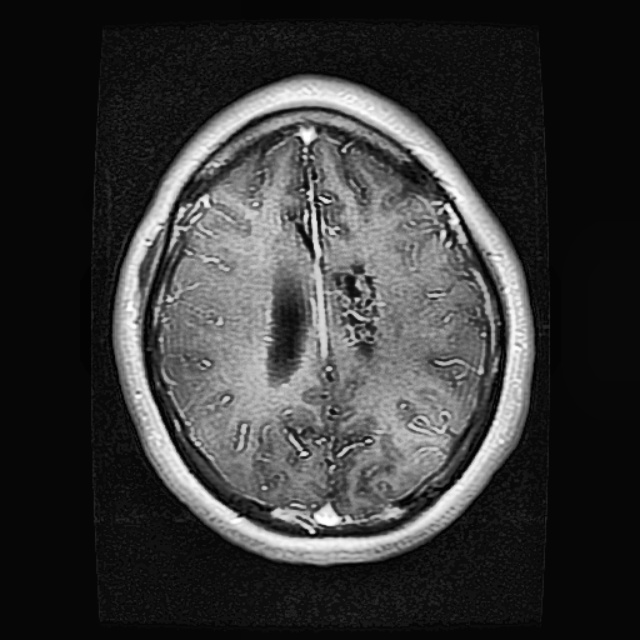Glioma: (332, 260, 380, 350)
